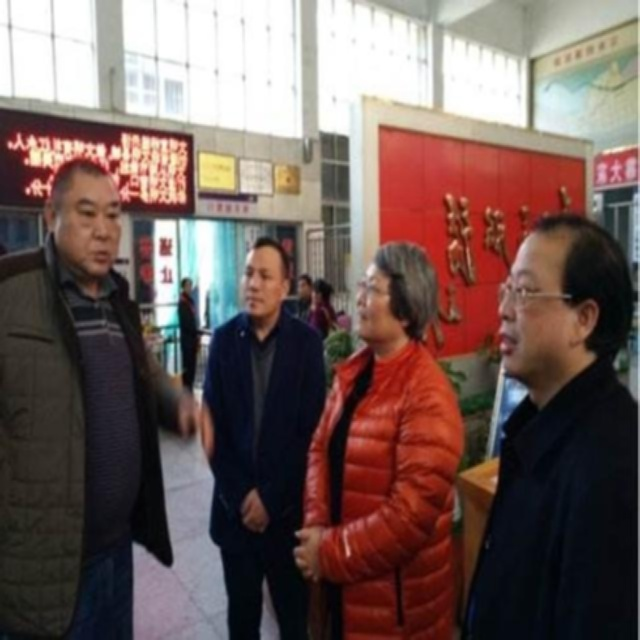Sin_Casco_Mascarrilla: (501, 213, 623, 370), (46, 152, 130, 260), (356, 237, 437, 342), (229, 235, 295, 317)
